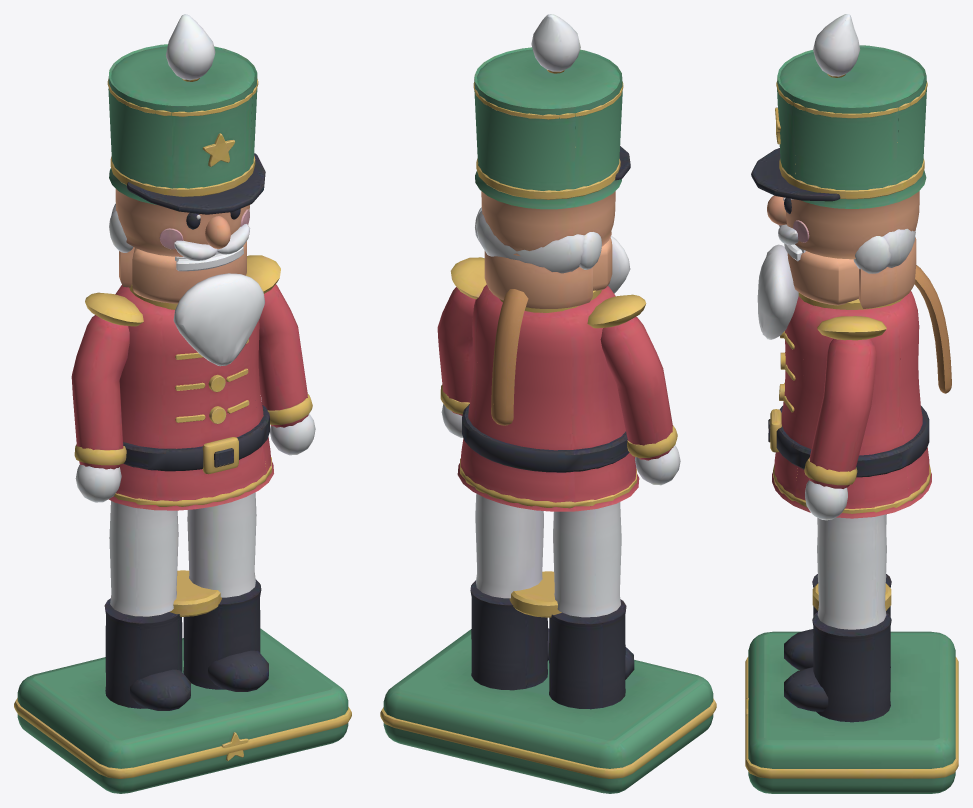
Rendered from cascanueces.glb.
The picture shows the model from 3 angles, left to right: view 1: azimuth 30°, elevation 25°; view 2: azimuth 150°, elevation 25°; view 3: azimuth 270°, elevation 25°; orthographic projection.
Visible parts, largest first — view 1: nutcracker_body; view 2: nutcracker_body; view 3: nutcracker_body.
Part boxes in pixels (x1=…): nutcracker_body: x1=14, y1=14, x2=351, y2=793; nutcracker_body: x1=380, y1=14, x2=716, y2=793; nutcracker_body: x1=745, y1=14, x2=958, y2=793.
Size of the model in its own units: 0.151 by 0.4163 by 0.111.
2 materials, 2 textured.
